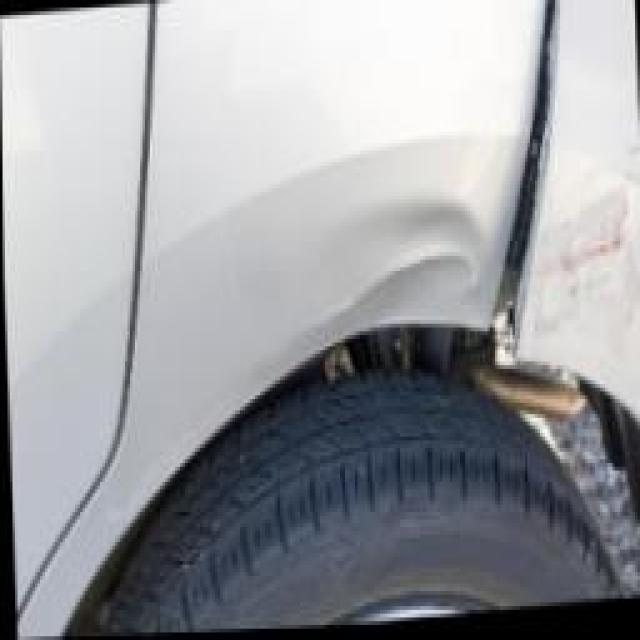Fender: (182, 0, 640, 464)
